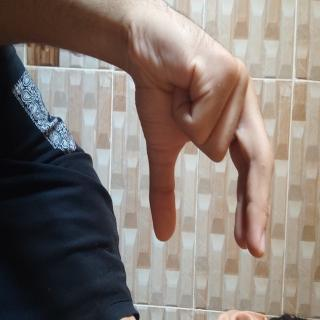DHELL: (1, 53, 194, 253)
